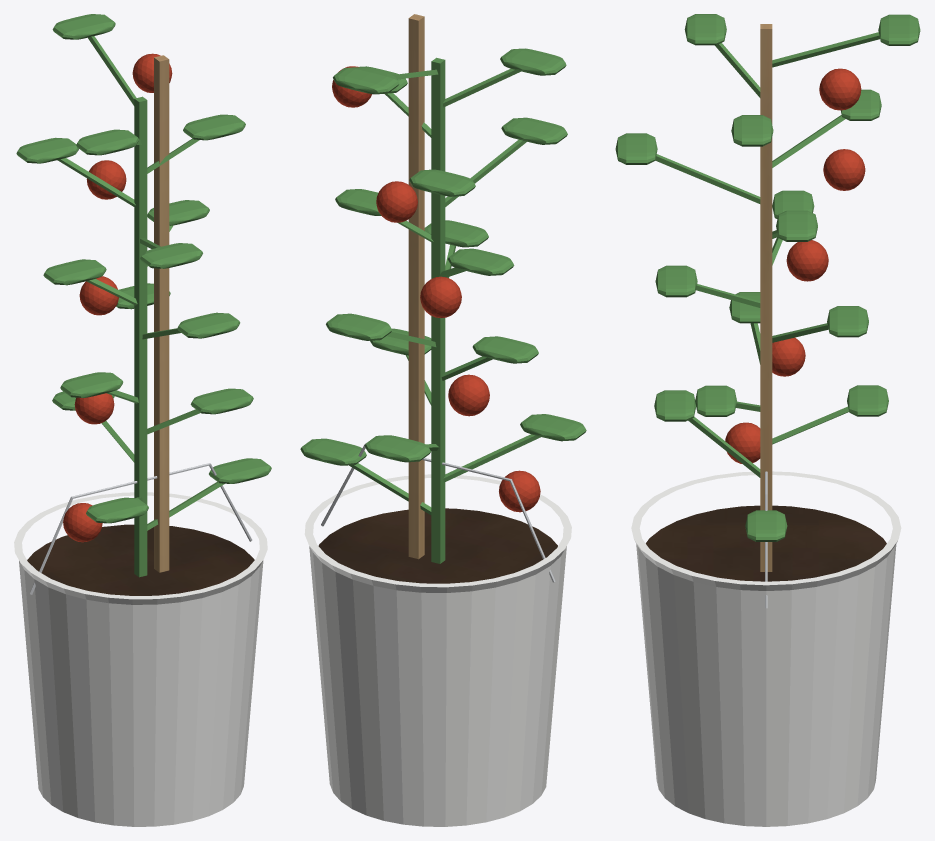
File: vaso_tomate.glb
3 views of the same model, side by side, from view 1: azimuth 30°, elevation 25°; view 2: azimuth 150°, elevation 25°; view 3: azimuth 270°, elevation 25° (orthographic). The views are drawn at different scales.
Parts seen in each view (by area): view 1: vaso_tomate_plastico_branco, vaso_tomate_folha_verde, vaso_tomate_terra, vaso_tomate_madeira_crua, vaso_tomate_tomate, vaso_tomate_aco; view 2: vaso_tomate_plastico_branco, vaso_tomate_folha_verde, vaso_tomate_terra, vaso_tomate_madeira_crua, vaso_tomate_tomate, vaso_tomate_aco; view 3: vaso_tomate_plastico_branco, vaso_tomate_folha_verde, vaso_tomate_terra, vaso_tomate_tomate, vaso_tomate_madeira_crua.
Part boxes in pixels (box(x1,y1,x2,y2)): vaso_tomate_plastico_branco: box(14, 492, 267, 826); vaso_tomate_folha_verde: box(16, 14, 271, 577); vaso_tomate_terra: box(27, 524, 254, 595); vaso_tomate_madeira_crua: box(154, 55, 169, 572); vaso_tomate_tomate: box(63, 53, 172, 542); vaso_tomate_aco: box(29, 463, 252, 594); vaso_tomate_plastico_branco: box(304, 474, 571, 826); vaso_tomate_folha_verde: box(300, 48, 586, 563); vaso_tomate_terra: box(318, 508, 557, 583); vaso_tomate_madeira_crua: box(408, 14, 424, 559); vaso_tomate_tomate: box(332, 66, 540, 512); vaso_tomate_aco: box(321, 443, 555, 582); vaso_tomate_plastico_branco: box(631, 471, 901, 826); vaso_tomate_folha_verde: box(615, 14, 920, 541); vaso_tomate_terra: box(646, 505, 886, 581); vaso_tomate_tomate: box(725, 68, 865, 463); vaso_tomate_madeira_crua: box(760, 24, 772, 571).
Size of the model in its own units: 0.345 by 1 by 0.3614.
Materials: 6 (2 with a texture image).
